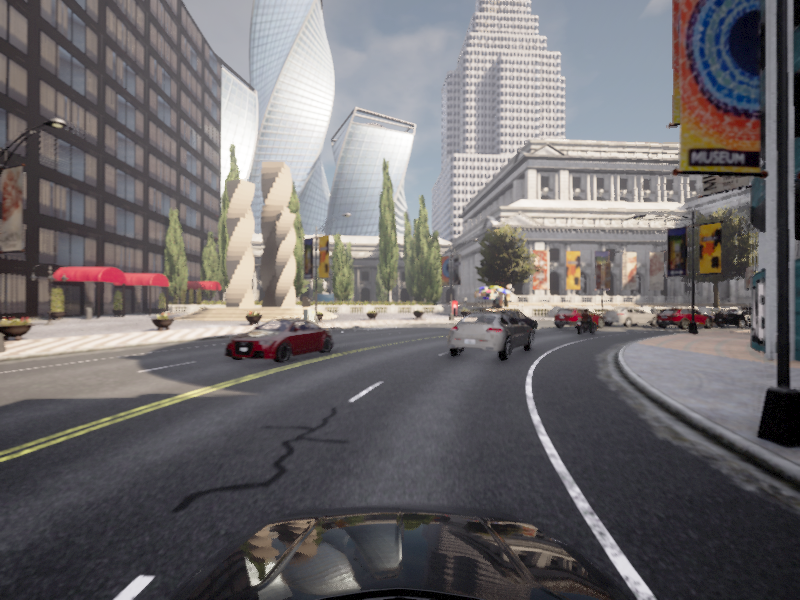vehicle: (216, 316, 338, 367), (440, 310, 536, 364), (475, 309, 541, 337), (708, 307, 784, 328), (650, 307, 718, 330), (548, 307, 608, 330), (598, 306, 661, 327), (652, 309, 721, 326), (572, 308, 601, 335)
